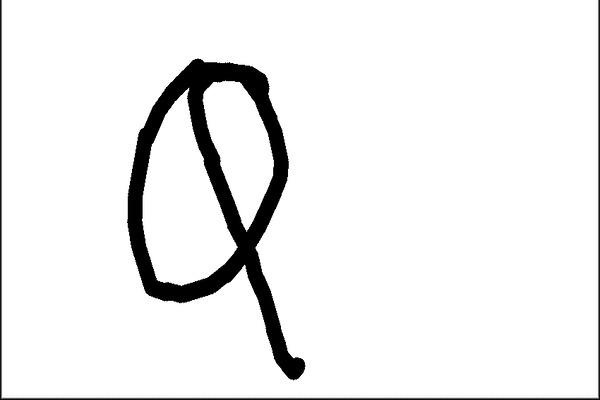Q: (111, 54, 319, 382)
